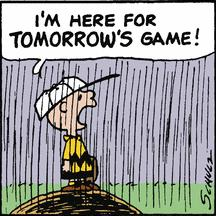charlie: (32, 76, 102, 193)
